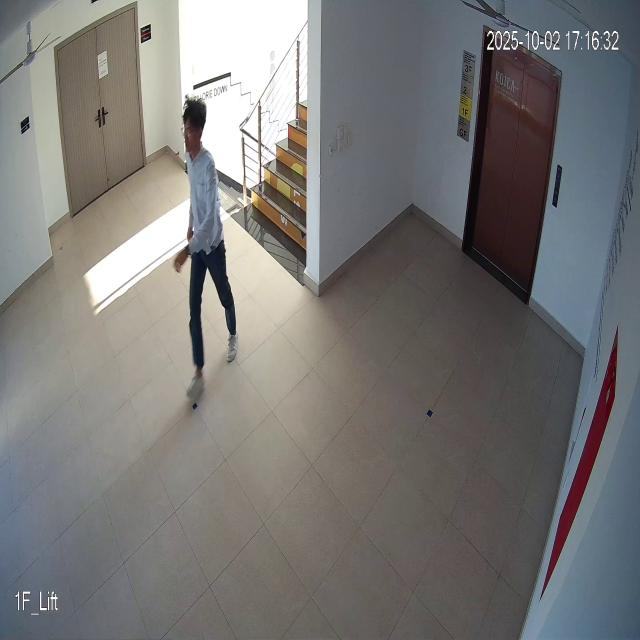face: (180, 94, 210, 158)
